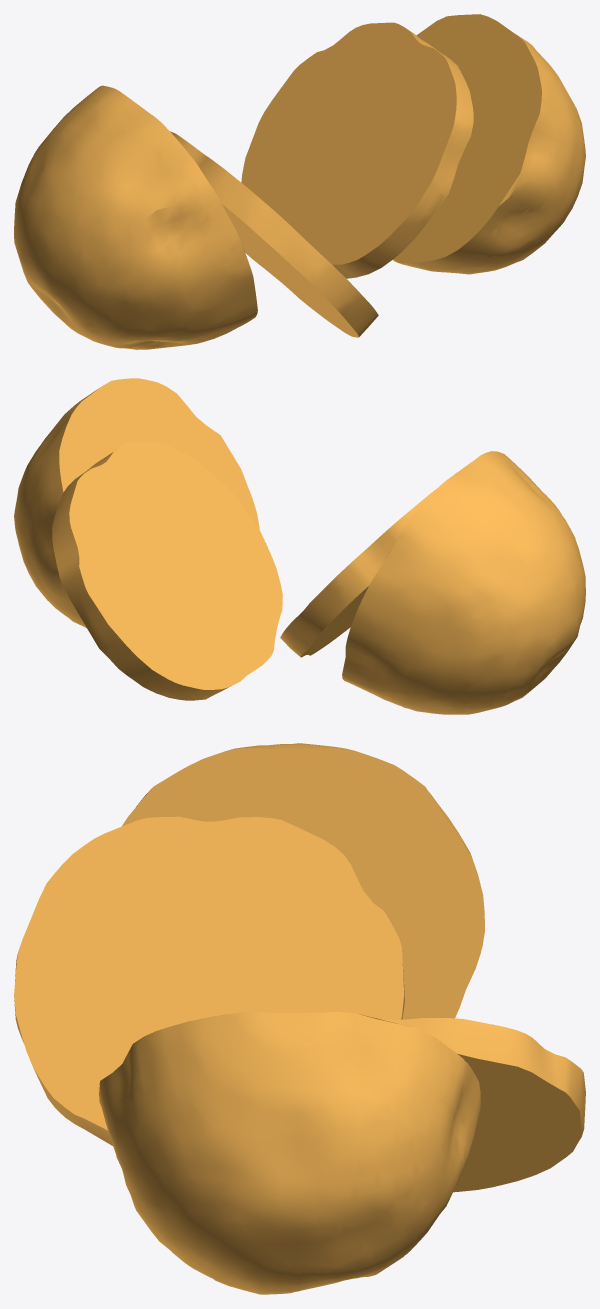
The model's file is potato-cut.gltf.
3 views of the same model, one above another, from view 1: azimuth 30°, elevation 25°; view 2: azimuth 150°, elevation 25°; view 3: azimuth 270°, elevation 25° (orthographic). The views are drawn at different scales.
Parts seen in each view (by area): view 1: Cube.002, Cube.003, Cube.001, Cube.004; view 2: Cube.002, Cube.003, Cube.001, Cube.004; view 3: Cube.001, Cube.004, Cube.002, Cube.003.
Part boxes in pixels (<box>): Cube.002: <box>14,85,257,349</box>; Cube.003: <box>241,22,473,278</box>; Cube.001: <box>393,14,585,274</box>; Cube.004: <box>170,131,378,337</box>; Cube.002: <box>342,451,585,714</box>; Cube.003: <box>52,442,282,700</box>; Cube.001: <box>14,378,259,628</box>; Cube.004: <box>280,451,491,657</box>; Cube.001: <box>99,1011,480,1294</box>; Cube.004: <box>14,816,404,1145</box>; Cube.002: <box>121,743,484,1019</box>; Cube.003: <box>382,1018,585,1192</box>.
Bounding box in the file's own units: 4.23 × 1.77 × 2.9.
1 material, 1 textured.
